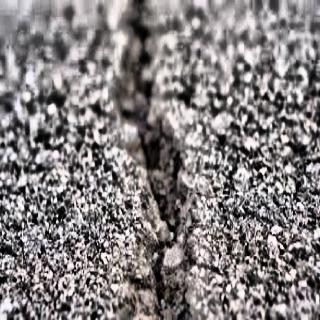crack: (113, 2, 207, 320)
